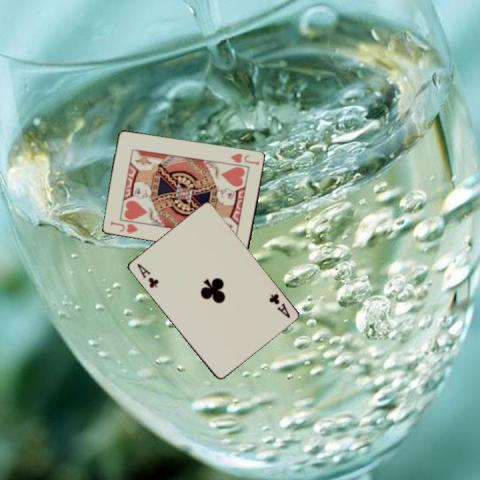Ac: (134, 261, 160, 289), (266, 291, 291, 319)
Jh: (228, 150, 261, 167), (107, 218, 139, 235)
